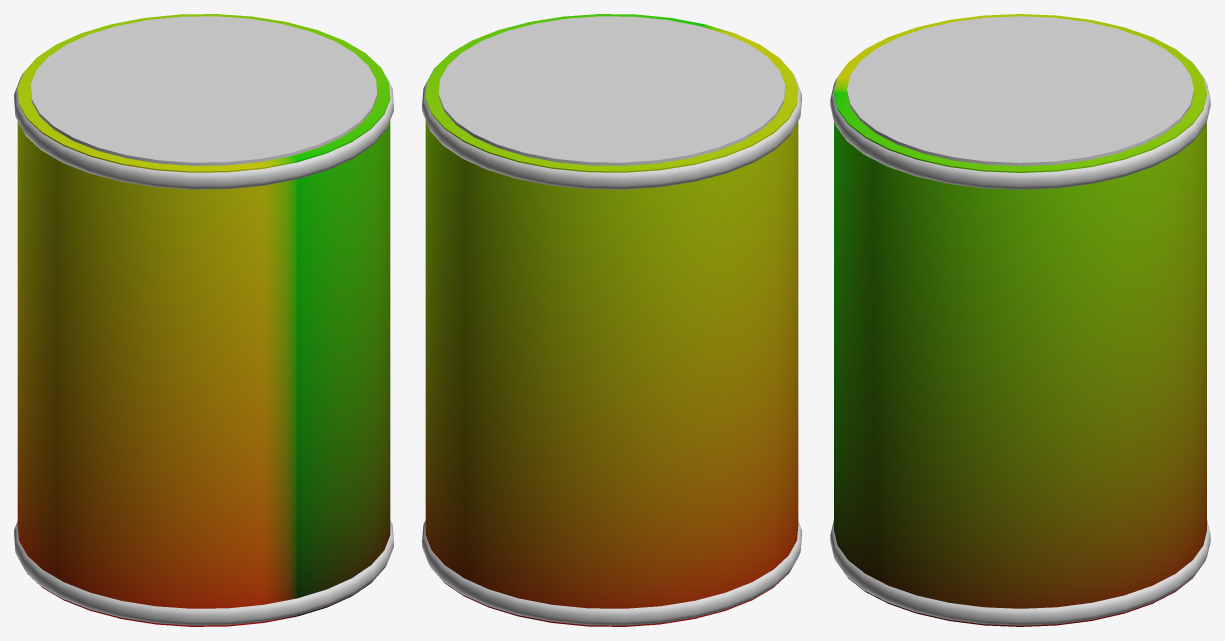
File: coffee_can.glb
3 views of the same model, side by side, from view 1: azimuth 30°, elevation 25°; view 2: azimuth 150°, elevation 25°; view 3: azimuth 270°, elevation 25° (orthographic).
Parts seen in each view (by area): view 1: coffee_can; view 2: coffee_can; view 3: coffee_can.
Part boxes in pixels (x1=…): coffee_can: x1=14, y1=14, x2=393, y2=626; coffee_can: x1=422, y1=14, x2=801, y2=626; coffee_can: x1=830, y1=14, x2=1210, y2=626.
Size of the model in its own units: 0.106 by 0.141 by 0.106.
